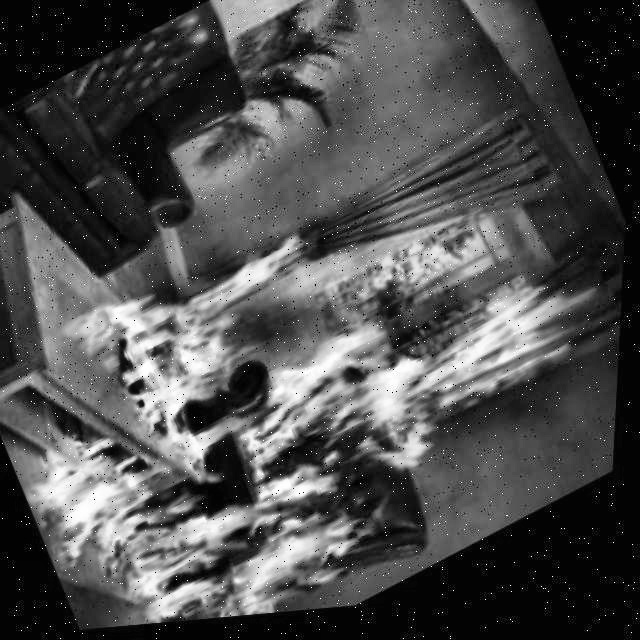Fire: (219, 214, 629, 545), (12, 328, 395, 637), (37, 178, 370, 486)
